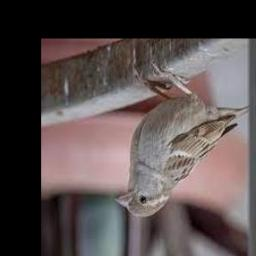Sparrow: (114, 64, 250, 218)
